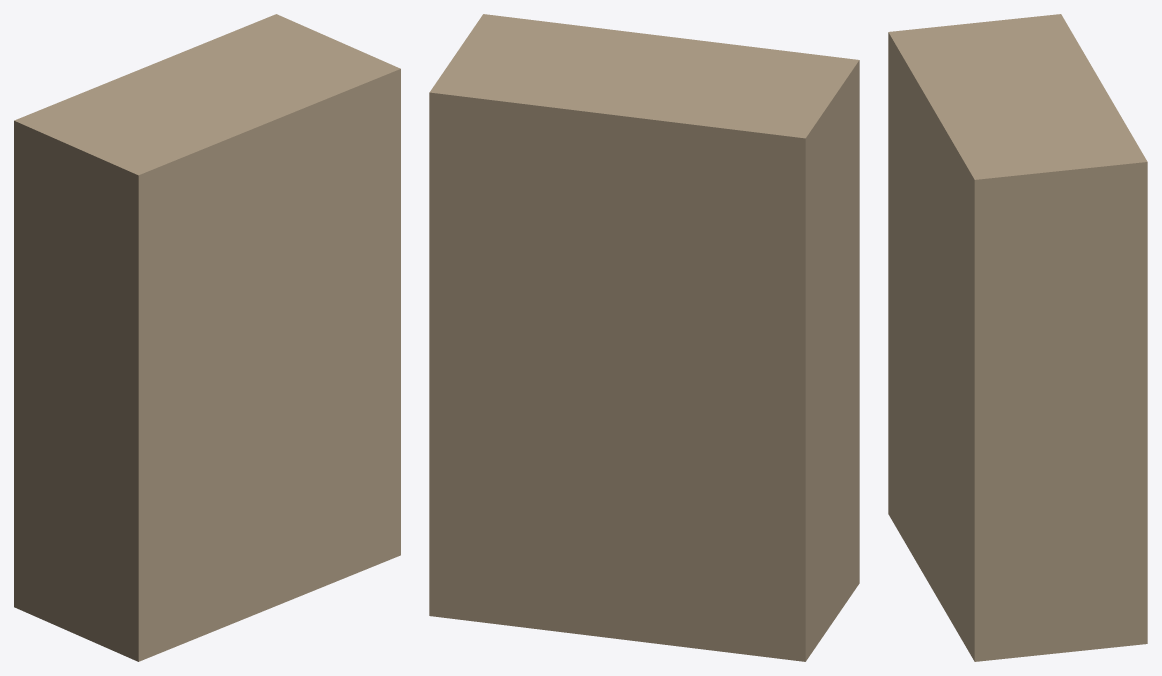
File: bld_107639258.dae
3 views of the same model, side by side, from view 1: azimuth 30°, elevation 25°; view 2: azimuth 150°, elevation 25°; view 3: azimuth 270°, elevation 25° (orthographic). The views are drawn at different scales.
Parts seen in each view (by area): view 1: bld_107639258; view 2: bld_107639258; view 3: bld_107639258.
Part boxes in pixels (x1=…): bld_107639258: x1=14, y1=14, x2=400, y2=661; bld_107639258: x1=429, y1=14, x2=859, y2=661; bld_107639258: x1=888, y1=14, x2=1147, y2=661.
Size of the model in its own units: 5.91 by 3.9 by 8.
